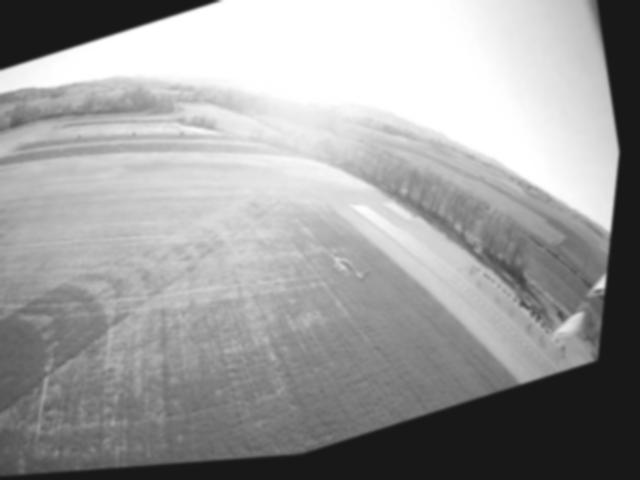hedef: (318, 237, 398, 315)
